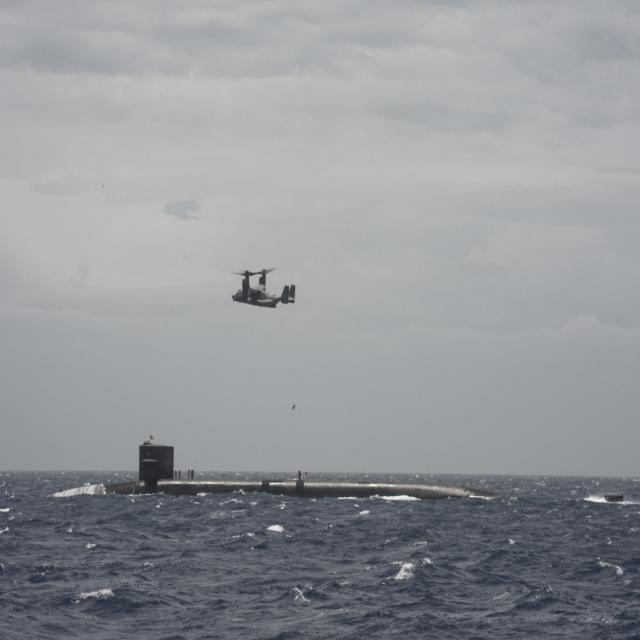MIL_Plane: (229, 268, 296, 308)
